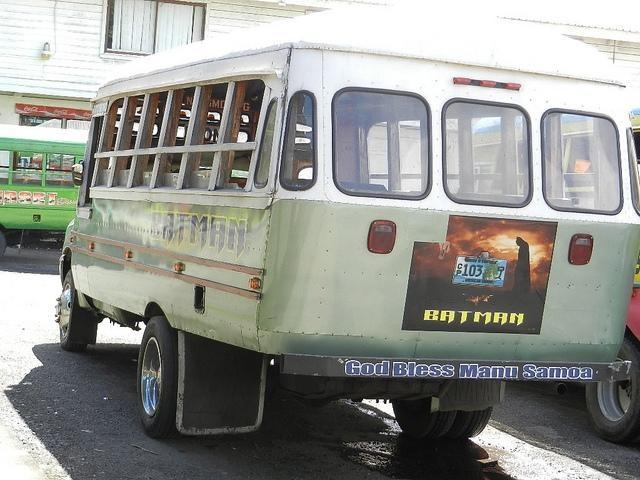bus: (54, 2, 640, 444), (583, 109, 640, 447), (1, 128, 90, 256)
